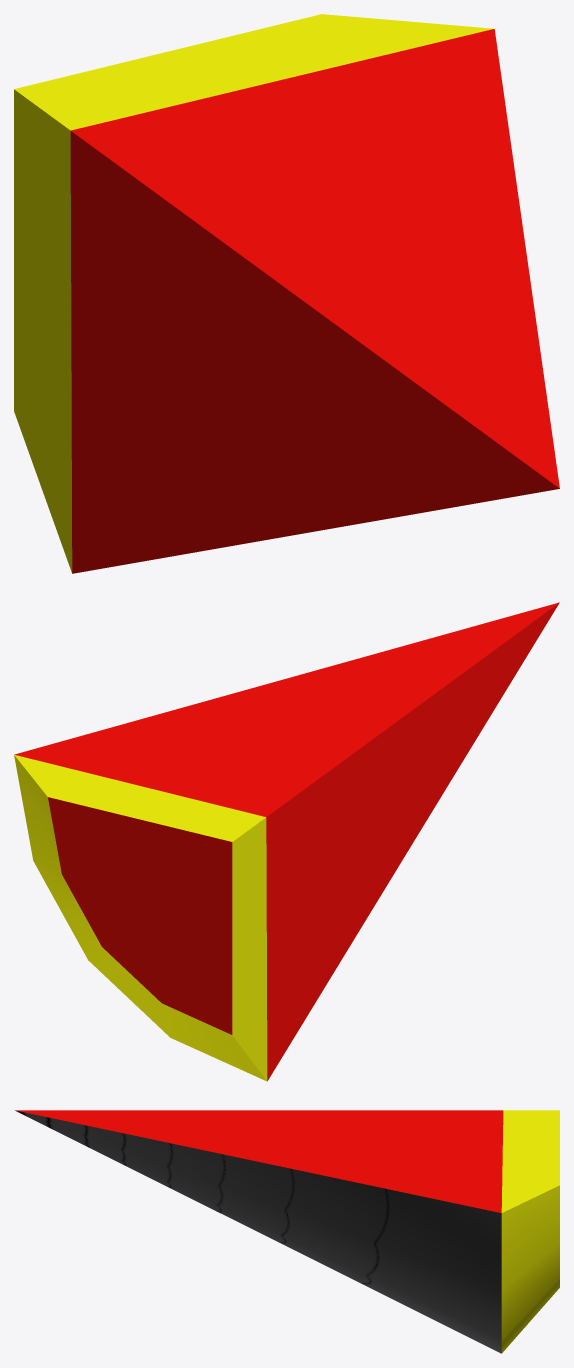
The model's file is Drill Bit.fbx.
3 views of the same model, one above another, from view 1: azimuth 30°, elevation 25°; view 2: azimuth 150°, elevation 25°; view 3: azimuth 270°, elevation 25° (orthographic). The views are drawn at different scales.
Visible parts, largest first — view 1: OrbiterDrill; view 2: OrbiterDrill; view 3: OrbiterDrill.
Boxes of the visible parts, x1,y1,x2,y2 form: OrbiterDrill: [14, 14, 559, 573]; OrbiterDrill: [14, 602, 559, 1081]; OrbiterDrill: [15, 1110, 559, 1353].
Size of the model in its own units: 100 by 100 by 224.
